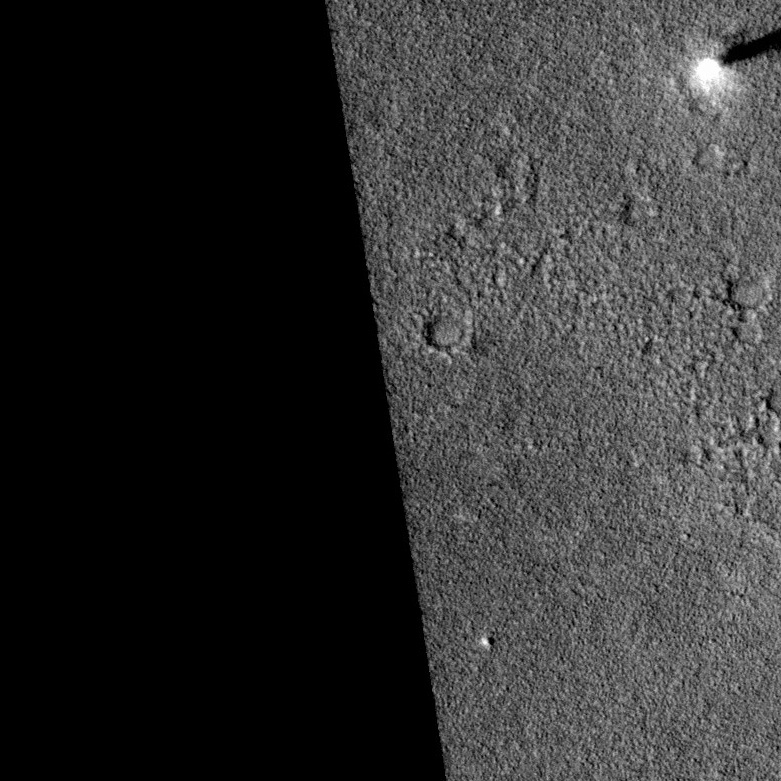dust_devil: (687, 20, 781, 105)
